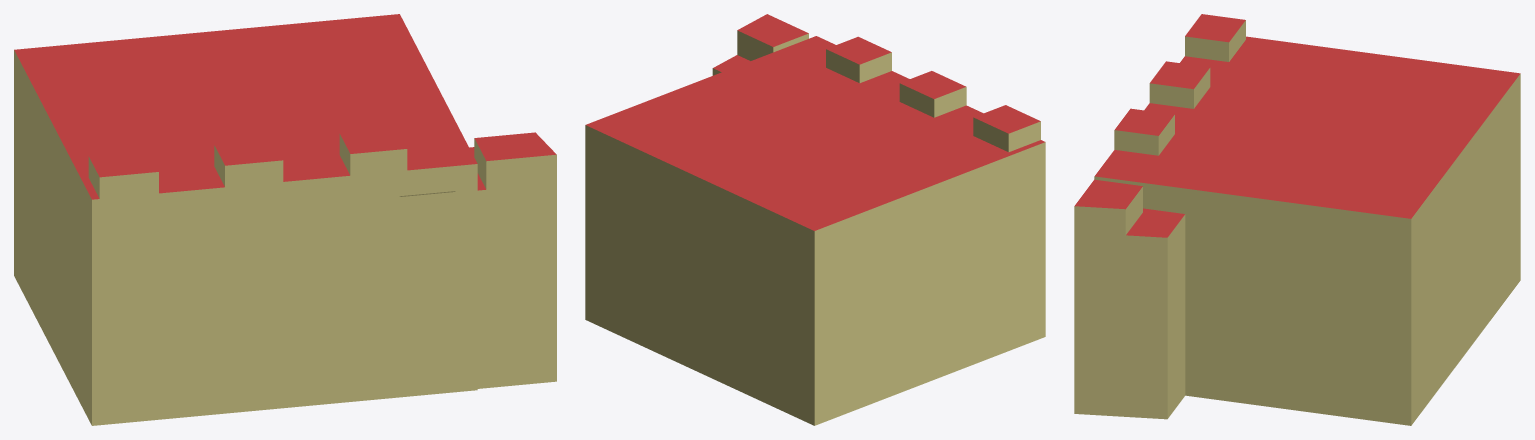
3 renders of one model, left to right at view 1: azimuth 30°, elevation 25°; view 2: azimuth 150°, elevation 25°; view 3: azimuth 270°, elevation 25°, orthographic. The views are drawn at different scales.
Visible parts, largest first — view 1: group_10, group_9, group_13, group_4, group_7, group_18, group_17, group_16, group_15, group_3, group_6; view 2: group_10, group_9, group_16, group_4, group_7, group_17, group_15, group_3, group_6, group_18; view 3: group_10, group_9, group_13, group_18, group_17, group_4, group_7, group_16, group_12, group_15, group_3, group_6.
Boxes of the visible parts, x1,y1,x2,y2 form: group_10: [14, 50, 477, 425]; group_9: [14, 14, 477, 199]; group_13: [455, 183, 556, 388]; group_4: [214, 145, 283, 413]; group_7: [339, 134, 407, 401]; group_18: [474, 138, 556, 189]; group_17: [474, 132, 556, 161]; group_16: [88, 156, 158, 198]; group_15: [89, 151, 158, 177]; group_3: [214, 139, 282, 165]; group_6: [339, 128, 406, 153]; group_10: [585, 125, 1045, 425]; group_9: [586, 36, 1044, 230]; group_16: [973, 117, 1040, 152]; group_4: [899, 83, 966, 117]; group_7: [826, 49, 891, 83]; group_17: [737, 14, 808, 46]; group_15: [974, 105, 1040, 133]; group_3: [900, 71, 965, 98]; group_6: [826, 36, 891, 64]; group_18: [737, 30, 808, 60]; group_10: [1094, 74, 1520, 425]; group_9: [1095, 36, 1520, 218]; group_13: [1074, 214, 1185, 419]; group_18: [1074, 187, 1142, 235]; group_17: [1074, 179, 1142, 209]; group_4: [1149, 68, 1210, 108]; group_7: [1114, 115, 1174, 155]; group_16: [1185, 20, 1245, 61]; group_12: [1126, 208, 1184, 237]; group_15: [1185, 14, 1245, 42]; group_3: [1150, 61, 1209, 89]; group_6: [1115, 108, 1174, 135].
Size of the model in its own units: 53.72 by 53.88 by 30.21.
